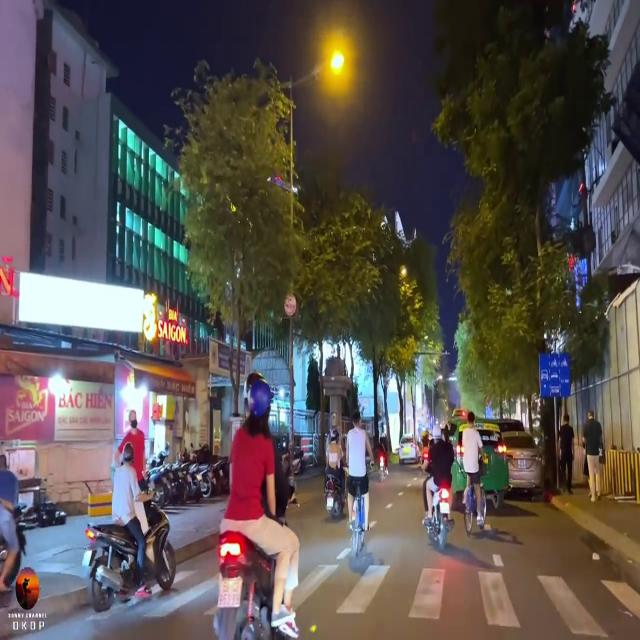bien_trang: (218, 578, 242, 607)
